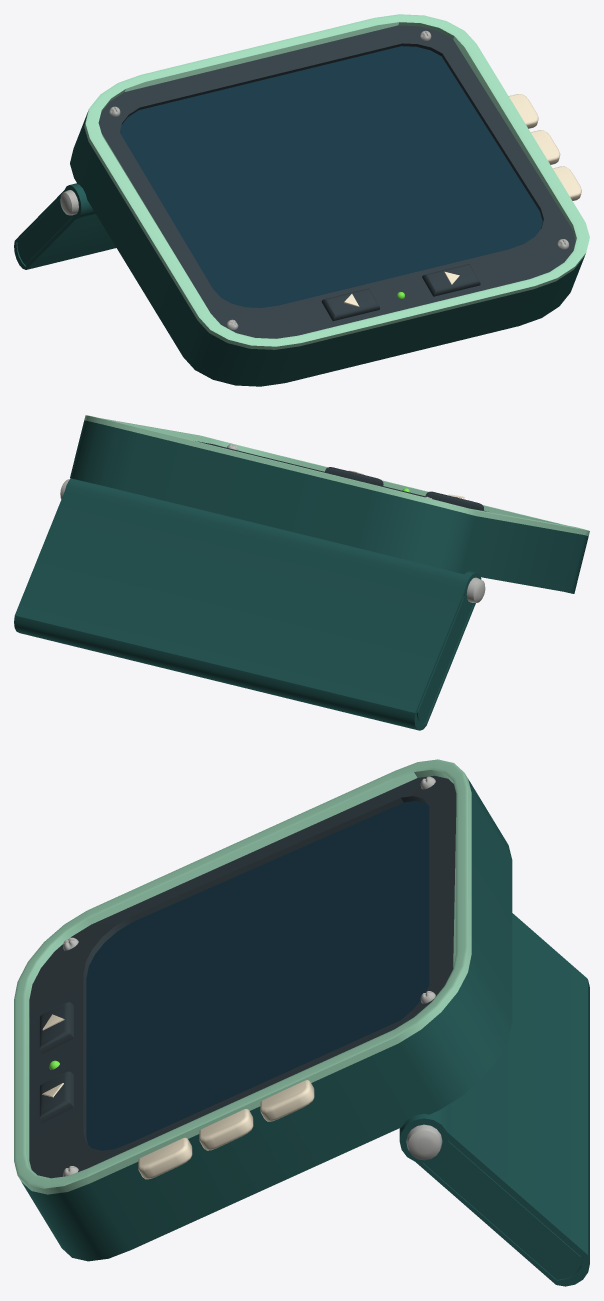
Rendered from alttaki tabletifbx.fbx.
The picture shows the model from 3 angles, top to bottom: view 1: azimuth 30°, elevation 25°; view 2: azimuth 150°, elevation 25°; view 3: azimuth 270°, elevation 25°; orthographic projection. The views are drawn at different scales.
Parts seen in each view (by area): view 1: Cube, Cylinder, Cube.001, Cube.002, Cube.003, Cube.004, Cube.005; view 2: Cylinder, Cube; view 3: Cube, Cylinder, Cube.004, Cube.005, Cube.003, Cube.002, Cube.001.
Boxes of the visible parts, bbox=[...] form: Cube: bbox=[70, 14, 589, 386]; Cylinder: bbox=[14, 183, 116, 269]; Cube.001: bbox=[321, 288, 379, 321]; Cube.002: bbox=[422, 264, 480, 296]; Cube.003: bbox=[508, 94, 538, 128]; Cube.004: bbox=[531, 130, 560, 164]; Cube.005: bbox=[553, 166, 581, 200]; Cylinder: bbox=[14, 478, 485, 730]; Cube: bbox=[70, 415, 589, 593]; Cube: bbox=[14, 759, 512, 1261]; Cylinder: bbox=[399, 913, 589, 1286]; Cube.004: bbox=[199, 1109, 253, 1150]; Cube.005: bbox=[138, 1137, 192, 1179]; Cube.003: bbox=[260, 1080, 314, 1121]; Cube.002: bbox=[39, 1071, 73, 1123]; Cube.001: bbox=[39, 1002, 73, 1054].
Bounding box in the file's own units: 325 × 150 × 274.
